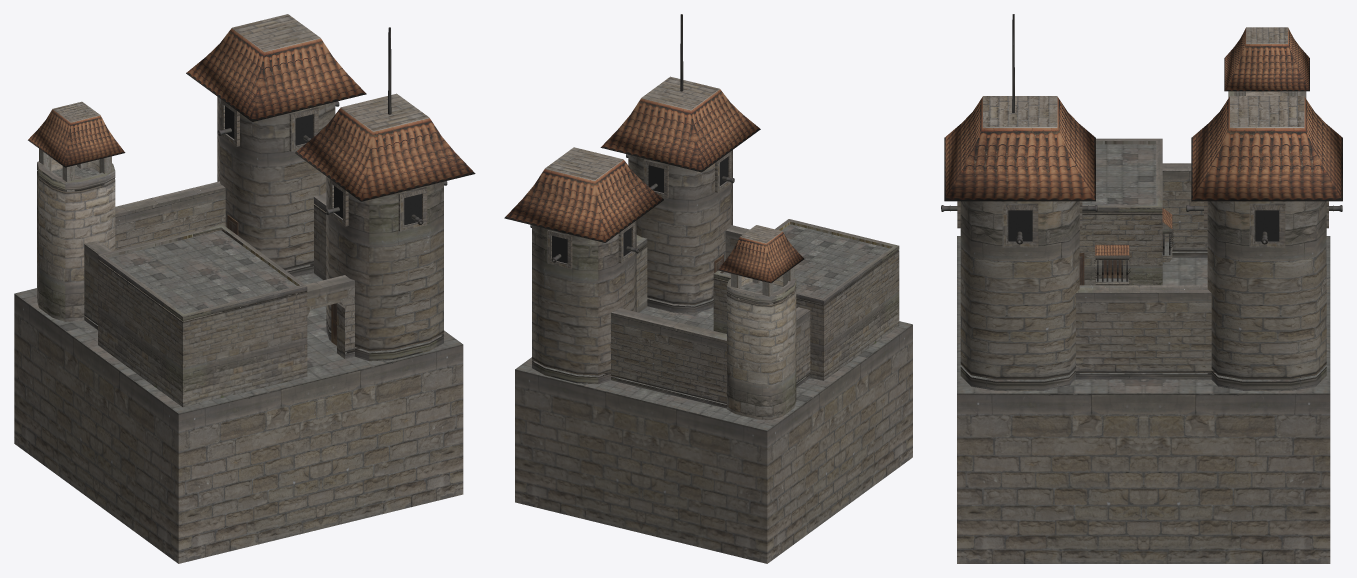
Rendered from presidio.dae.
3 renders of one model, left to right at view 1: azimuth 30°, elevation 25°; view 2: azimuth 150°, elevation 25°; view 3: azimuth 270°, elevation 25°, orthographic. The views are drawn at different scales.
Visible parts, largest first — view 1: Precidio; view 2: Precidio; view 3: Precidio.
Boxes of the visible parts, x1,y1,x2,y2 form: Precidio: (14, 14, 475, 563); Precidio: (504, 14, 912, 563); Precidio: (941, 14, 1342, 563).
Size of the model in its own units: 25.57 by 26.53 by 38.09.
